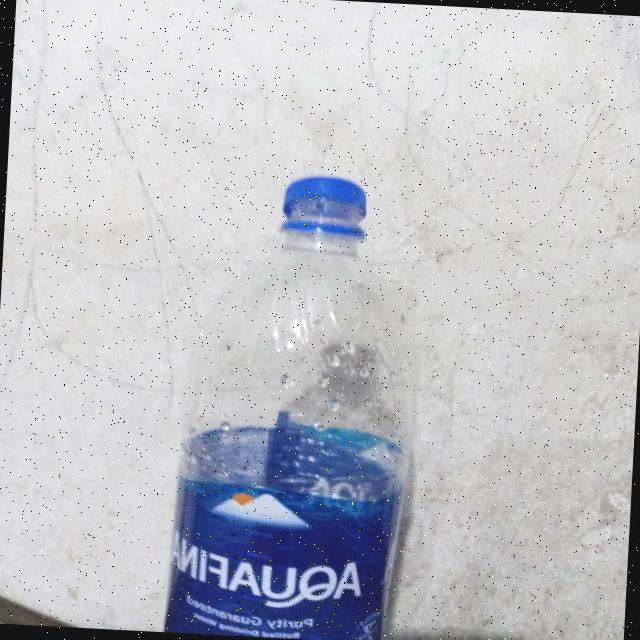bottle: (164, 163, 428, 640)
cap: (274, 178, 378, 248)
label: (161, 468, 408, 640)
